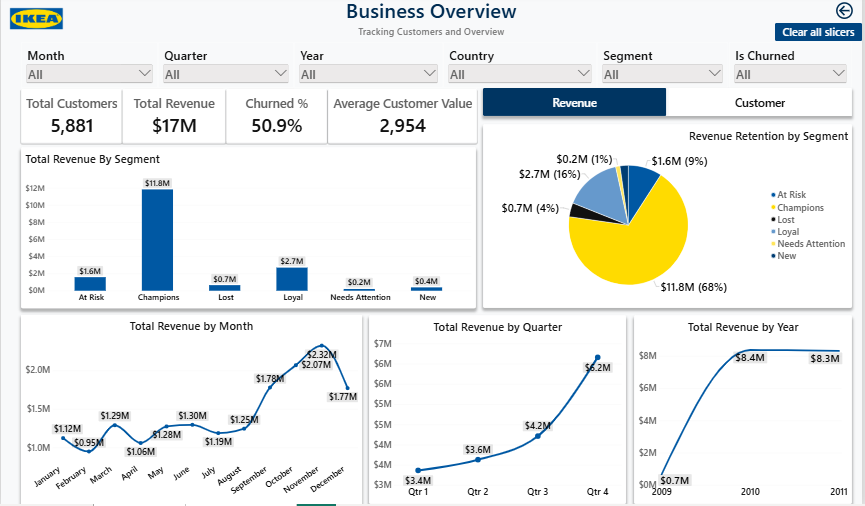

This screenshot's page, from the dashboard's own definition file:
{"tool":"powerbi","page":{"name":"Overview","canvas":[3390,2000],"ordinal":0},"visuals":[{"type":"cardVisual","fields":{"Data":["Sheet.Total Revenue"]},"box":[476.1,362.2,409.4,216.5],"z":0},{"type":"columnChart","title":"Customer Retention by Segment","fields":{"Category":["Sheet.Segment"],"Series":["Sheet.IsChurned"],"Y":["Sheet.Total Customers"]},"box":[1905.5,485.7,1452.9,752.9],"z":0,"group":"g1"},{"type":"cardVisual","fields":{"Data":["Sheet.Total Customers"]},"box":[77.3,362.2,397.6,216.5],"z":1000},{"type":"columnChart","title":"Total Customers By Segment","fields":{"Category":["Sheet.Segment"],"Y":["Sheet.Total Customers"]},"box":[79.3,599.6,1806.9,647.1],"z":1000,"group":"g1"},{"type":"cardVisual","fields":{"Data":["Sheet.Churned %"]},"box":[887.2,362.2,397.6,216.5],"z":2000},{"type":"lineChart","title":"Total Customers by Month","fields":{"Category":["Sheet.InvoiceMonth.Variation.Date Hierarchy.Month"],"Y":["Sheet.Total Customers"]},"box":[88.8,1255.9,1342.5,744.1],"z":2000,"group":"g1"},{"type":"cardVisual","fields":{"Data":["Sheet.Average Customer Value"]},"box":[1286,362.2,586.6,216.5],"z":3000},{"type":"lineChart","fields":{"Category":["Sheet.InvoiceMonth.Variation.Date Hierarchy.Quarter"],"Y":["Sheet.Total Customers"]},"box":[1458.9,1255.9,1011.8,744.1],"z":3000,"group":"g1"},{"type":"slicer","fields":{"Values":["Sheet.InvoiceMonth.Variation.Date Hierarchy.Month"]},"box":[78.7,181.1,539.4,181.1],"z":4000},{"type":"lineChart","fields":{"Category":["Sheet.InvoiceMonth.Variation.Date Hierarchy.Year"],"Y":["Sheet.Total Customers"]},"box":[2502.2,1255.9,858.3,744.1],"z":4000,"group":"g1"},{"type":"slicer","fields":{"Values":["Sheet.InvoiceMonth.Variation.Date Hierarchy.Quarter"]},"box":[618.1,181.1,535.4,181.1],"z":5000},{"type":"slicer","fields":{"Values":["Sheet.InvoiceMonth.Variation.Date Hierarchy.Year"]},"box":[1153.5,181.1,586.6,181.1],"z":6000},{"type":"slicer","fields":{"Values":["Sheet.Country"]},"box":[1740.2,181.1,606.3,181.1],"z":7000},{"type":"slicer","fields":{"Values":["Sheet.Segment"]},"box":[2346.5,181.1,515.7,181.1],"z":8000},{"type":"slicer","fields":{"Values":["Sheet.IsChurned"]},"box":[2866.1,181.1,484.3,181.1],"z":9000},{"type":"group","id":"g1","title":"Customers","box":[79.3,485.7,3281.1,1514.3],"z":10000},{"type":"bookmarkNavigator","box":[1897.6,362.2,1452.8,110.2],"z":12000},{"type":"image","box":[0,0,279,179.1],"z":13000},{"type":"textbox","box":[1024.5,0,1341,108.3],"z":14000},{"type":"textbox","box":[1047.8,114.4,1294.4,54.4],"z":15000},{"type":"actionButton","box":[3236.4,0,153.6,114.2],"z":16000},{"type":"actionButton","box":[3047.5,106.3,342.5,70.9],"z":17000}]}

Visuals, with their boxes in screenshot pixels (x1, y1, x2, y2), scaled from the page's 3390x2000 canvas onto the 865x506 screenshot:
cardVisual - Sheet.Total Revenue: bbox=(121, 92, 226, 146)
"Customer Retention by Segment" columnChart: bbox=(486, 123, 857, 313)
cardVisual - Sheet.Total Customers: bbox=(20, 92, 121, 146)
"Total Customers By Segment" columnChart: bbox=(20, 152, 481, 315)
cardVisual - Sheet.Churned %: bbox=(226, 92, 328, 146)
"Total Customers by Month" lineChart: bbox=(23, 318, 365, 505)
cardVisual - Sheet.Average Customer Value: bbox=(328, 92, 478, 146)
lineChart - Sheet.InvoiceMonth.Variation.Date Hierarchy.Quarter x Sheet.Total Customers: bbox=(372, 318, 630, 505)
slicer - Sheet.InvoiceMonth.Variation.Date Hierarchy.Month: bbox=(20, 46, 158, 92)
lineChart - Sheet.InvoiceMonth.Variation.Date Hierarchy.Year x Sheet.Total Customers: bbox=(638, 318, 857, 505)
slicer - Sheet.InvoiceMonth.Variation.Date Hierarchy.Quarter: bbox=(158, 46, 294, 92)
slicer - Sheet.InvoiceMonth.Variation.Date Hierarchy.Year: bbox=(294, 46, 444, 92)
slicer - Sheet.Country: bbox=(444, 46, 599, 92)
slicer - Sheet.Segment: bbox=(599, 46, 730, 92)
slicer - Sheet.IsChurned: bbox=(731, 46, 855, 92)
"Customers" group: bbox=(20, 123, 857, 505)
bookmarkNavigator: bbox=(484, 92, 855, 120)
image: bbox=(0, 0, 71, 45)
textbox: bbox=(261, 0, 604, 27)
textbox: bbox=(267, 29, 598, 43)
actionButton: bbox=(826, 0, 864, 29)
actionButton: bbox=(778, 27, 864, 45)
